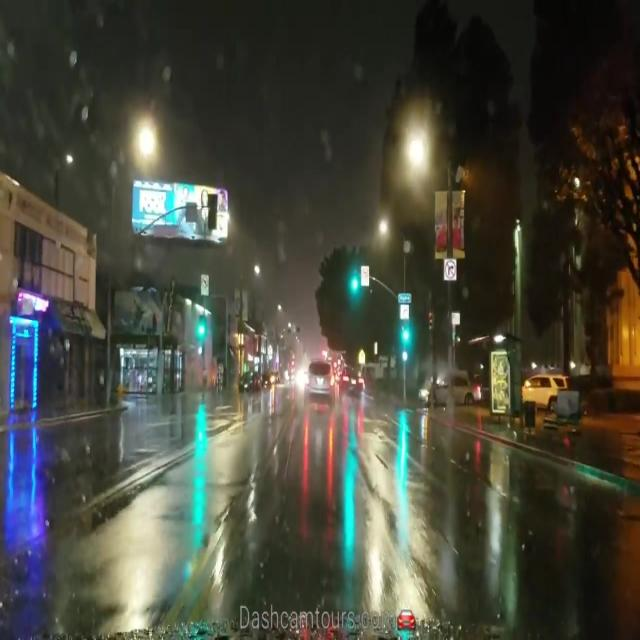Car: (305, 362, 336, 409), (339, 366, 362, 395)
